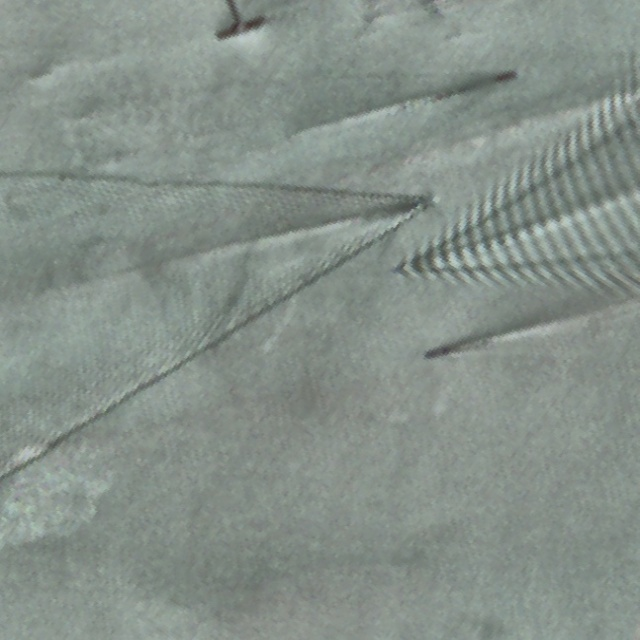wake: (374, 161, 603, 323)
